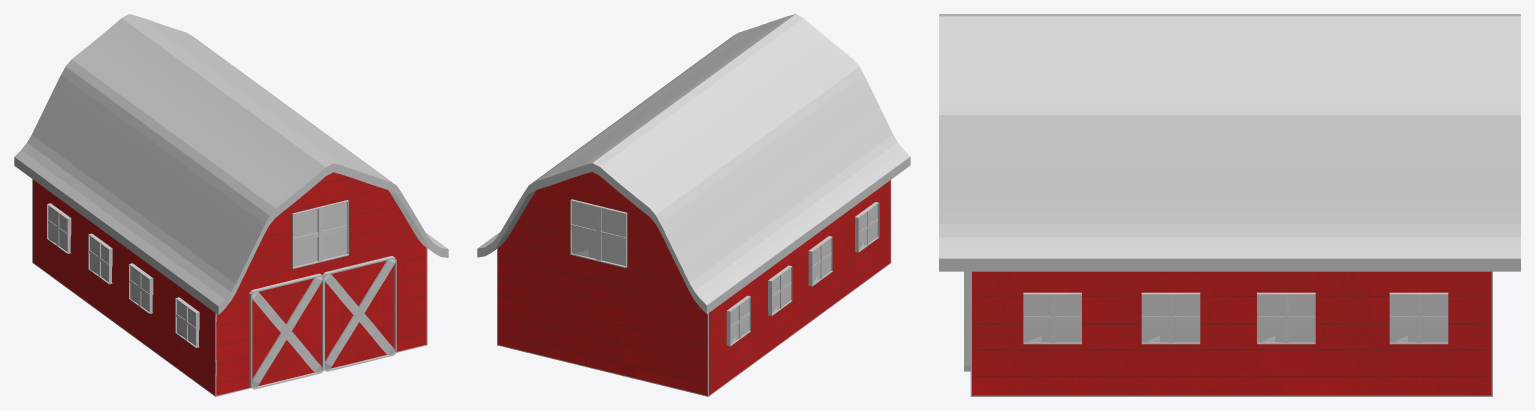
Rendered from CELEIRO.fbx.
3 views of the same model, side by side, from view 1: azimuth 30°, elevation 25°; view 2: azimuth 150°, elevation 25°; view 3: azimuth 270°, elevation 25° (orthographic). The views are drawn at different scales.
Visible parts, largest first — view 1: granja; view 2: granja; view 3: granja.
Boxes of the visible parts, x1=… form: granja: x1=14, y1=14, x2=448, y2=396; granja: x1=477, y1=14, x2=910, y2=396; granja: x1=939, y1=14, x2=1520, y2=396.
Bounding box in the file's own units: 559 × 501 × 859.
